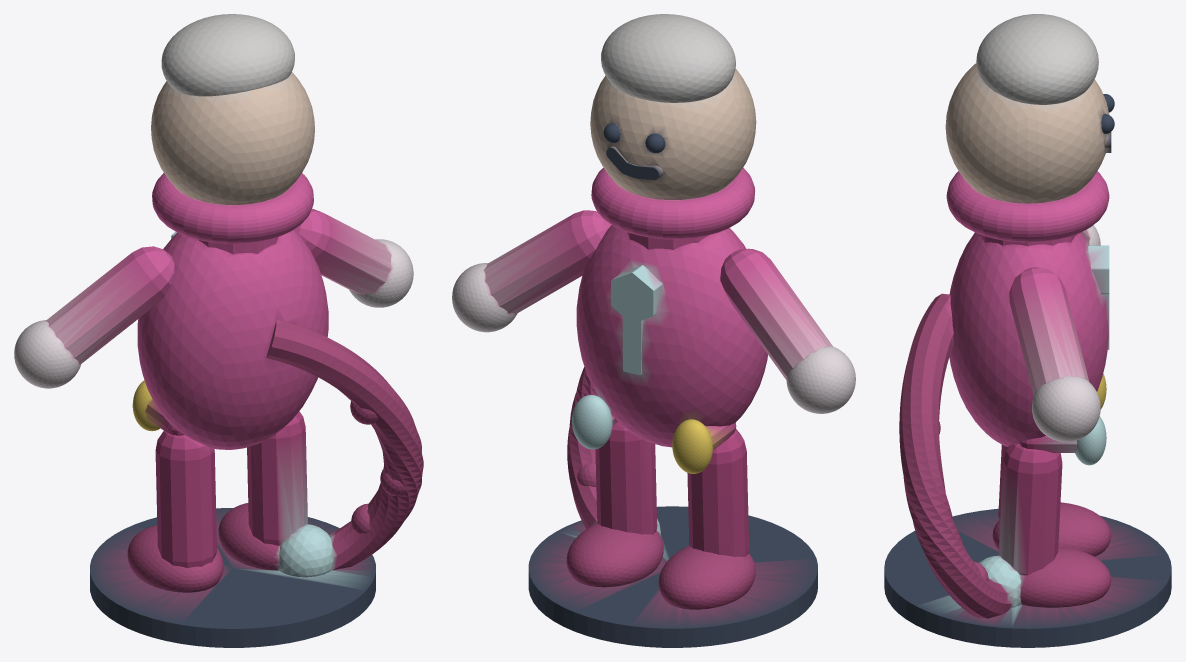
Rendered from neuronaut-glia-preview.glb.
The picture shows the model from 3 angles, left to right: view 1: azimuth 30°, elevation 25°; view 2: azimuth 150°, elevation 25°; view 3: azimuth 270°, elevation 25°; orthographic projection.
Visible parts, largest first — view 1: geometry_0; view 2: geometry_0; view 3: geometry_0.
Boxes of the visible parts, x1=… form: geometry_0: x1=14, y1=14, x2=423, y2=647; geometry_0: x1=452, y1=14, x2=855, y2=647; geometry_0: x1=884, y1=14, x2=1171, y2=647.
Bounding box in the file's own units: 0.0369 × 0.0508 × 0.0235.
